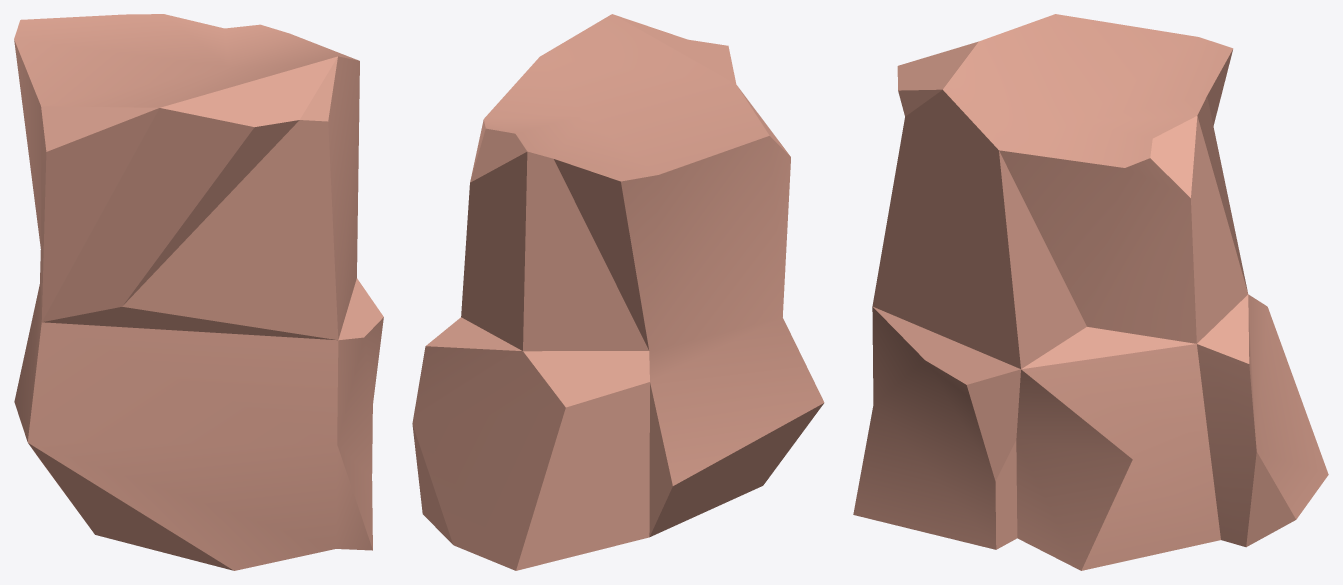
The model's file is RockOK_1.fbx.
3 views of the same model, side by side, from view 1: azimuth 30°, elevation 25°; view 2: azimuth 150°, elevation 25°; view 3: azimuth 270°, elevation 25° (orthographic). The views are drawn at different scales.
Visible parts, largest first — view 1: RockOK_1; view 2: RockOK_1; view 3: RockOK_1.
Part boxes in pixels (left/top/right/bottom): RockOK_1: left=14, top=14, right=383, bottom=570; RockOK_1: left=412, top=14, right=824, bottom=570; RockOK_1: left=853, top=14, right=1328, bottom=570.
Size of the model in its own units: 57.65 by 69.03 by 66.94.
